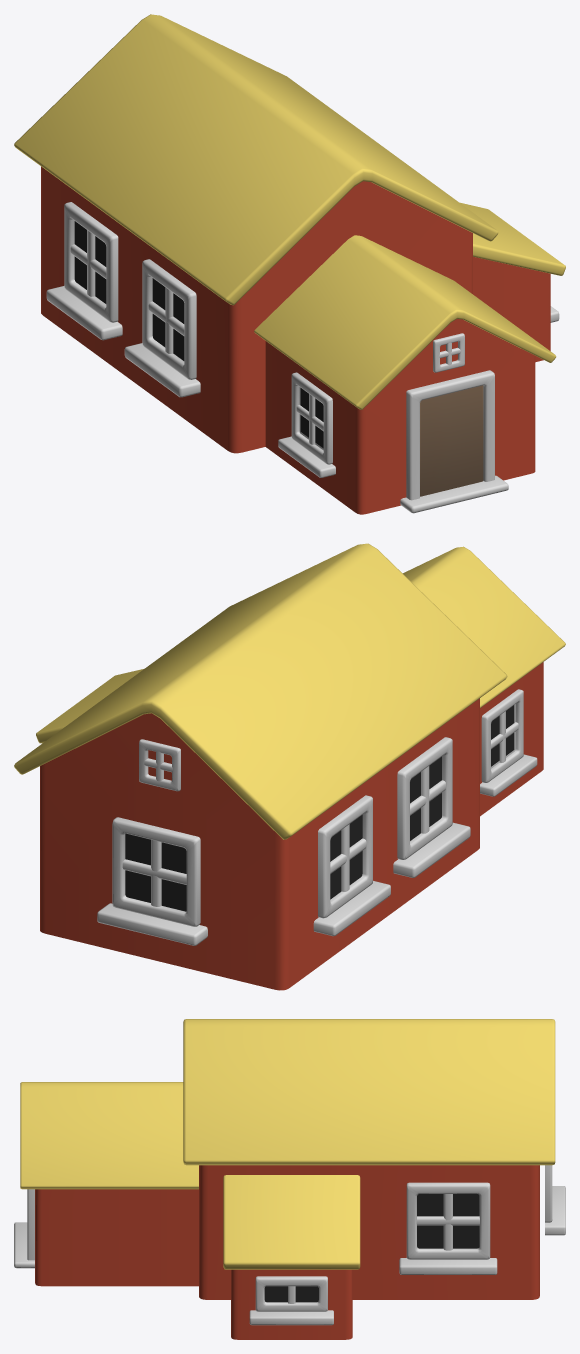
File: House_05.fbx
3 views of the same model, one above another, from view 1: azimuth 30°, elevation 25°; view 2: azimuth 150°, elevation 25°; view 3: azimuth 270°, elevation 25° (orthographic). The views are drawn at different scales.
Parts seen in each view (by area): view 1: House_05; view 2: House_05; view 3: House_05.
Boxes of the visible parts, x1,y1,x2,y2 form: House_05: [14, 14, 565, 514]; House_05: [14, 543, 565, 990]; House_05: [14, 1019, 565, 1339].
Size of the model in its own units: 5023 by 3340 by 7322.
